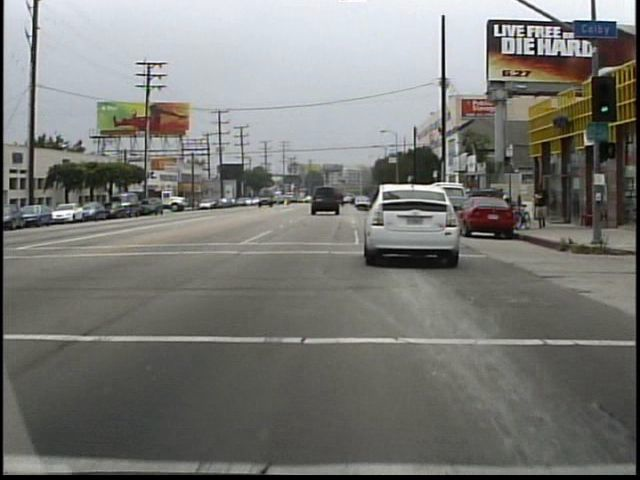person: (533, 177, 555, 232)
